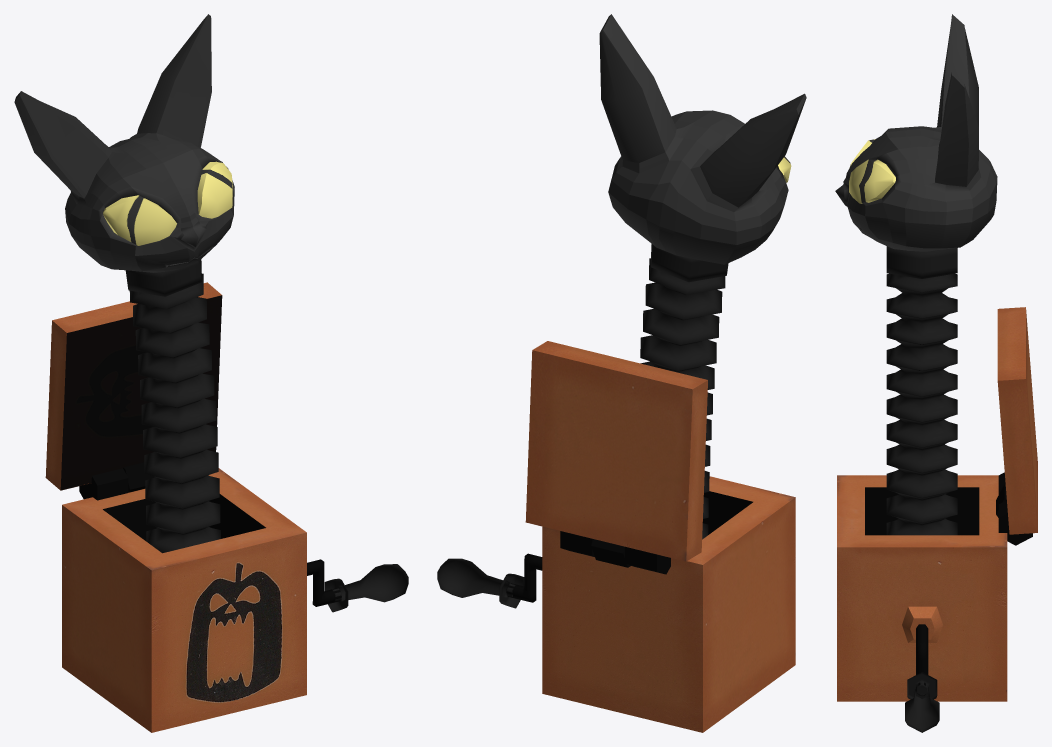
The model's file is JackInTheBox.dae.
3 views of the same model, side by side, from view 1: azimuth 30°, elevation 25°; view 2: azimuth 150°, elevation 25°; view 3: azimuth 270°, elevation 25° (orthographic). The views are drawn at different scales.
Visible parts, largest first — view 1: Box, catHead, spring, lid, grip, hinge2, crank; view 2: Box, lid, catHead, spring, grip, crank, hinge2, hinge, hinge1; view 3: Box, catHead, spring, lid, grip, crank, hinge1.
Boxes of the visible parts, left/top/right/bottom form: Box: left=62, top=468, right=306, bottom=732; catHead: left=14, top=14, right=234, bottom=272; spring: left=125, top=259, right=220, bottom=553; lid: left=45, top=282, right=222, bottom=490; grip: left=324, top=564, right=408, bottom=612; hinge2: left=79, top=468, right=128, bottom=500; crank: left=307, top=559, right=341, bottom=606; Box: left=542, top=476, right=795, bottom=732; lid: left=525, top=341, right=707, bottom=561; catHead: left=599, top=14, right=806, bottom=264; spring: left=640, top=244, right=728, bottom=539; grip: left=437, top=558, right=524, bottom=608; crank: left=506, top=553, right=542, bottom=602; hinge2: left=625, top=546, right=670, bottom=574; hinge: left=591, top=539, right=630, bottom=567; hinge1: left=560, top=531, right=594, bottom=556; Box: left=837, top=475, right=1007, bottom=701; catHead: left=835, top=14, right=997, bottom=251; spring: left=886, top=246, right=957, bottom=535; lid: left=997, top=307, right=1037, bottom=534; grip: left=905, top=672, right=939, bottom=732; crank: left=916, top=624, right=928, bottom=695; hinge1: left=998, top=500, right=1032, bottom=545.
Bounding box in the file's own units: 14.29 × 23.84 × 7.14.
5 materials, 3 textured.
